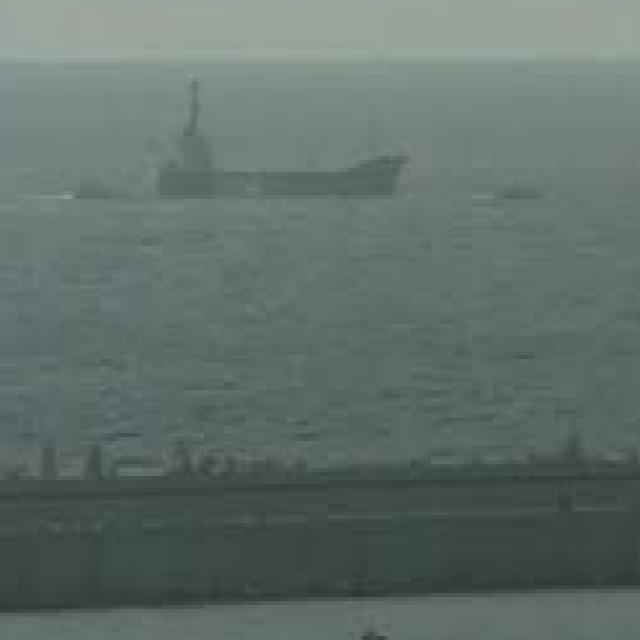cargoship: (124, 81, 399, 219)
